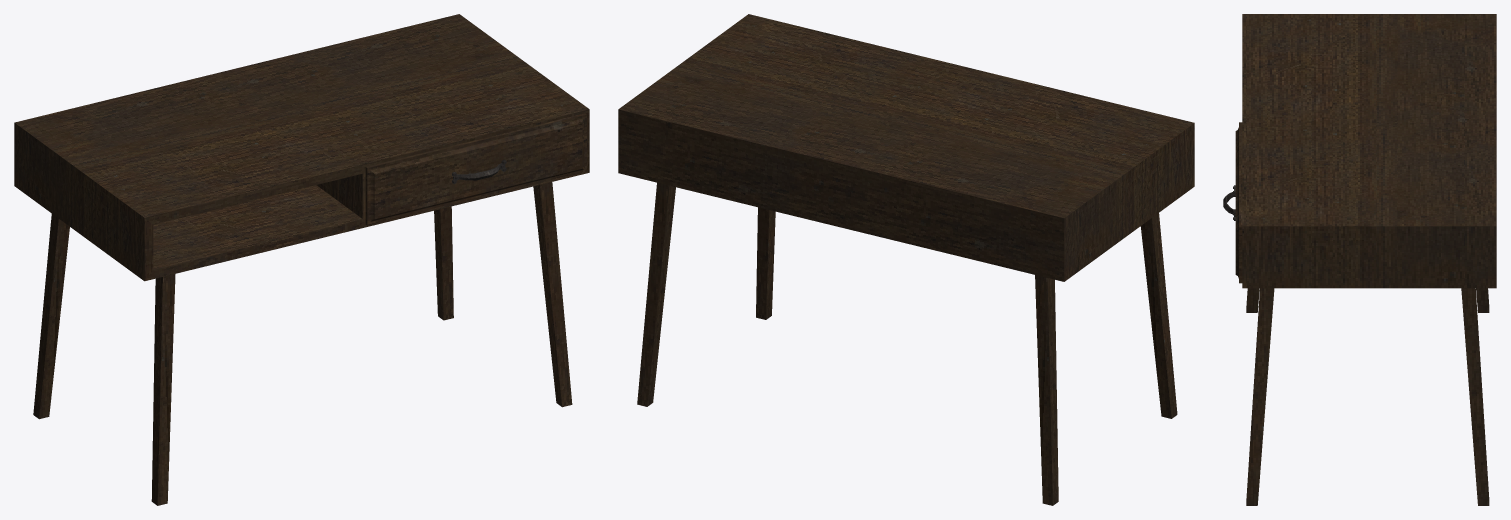
The model's file is tv_table_4_1.glb.
The picture shows the model from 3 angles, left to right: view 1: azimuth 30°, elevation 25°; view 2: azimuth 150°, elevation 25°; view 3: azimuth 270°, elevation 25°; orthographic projection. The views are drawn at different scales.
Parts seen in each view (by area): view 1: tv_table_4_1, tv_table_4_1_drawer; view 2: tv_table_4_1; view 3: tv_table_4_1, tv_table_4_1_drawer.
Boxes of the visible parts, bbox=[...] form: tv_table_4_1: bbox=[14, 14, 589, 505]; tv_table_4_1_drawer: bbox=[365, 113, 586, 225]; tv_table_4_1: bbox=[618, 14, 1194, 505]; tv_table_4_1: bbox=[1242, 14, 1496, 505]; tv_table_4_1_drawer: bbox=[1223, 122, 1242, 283].
Size of the model in its own units: 1.54 by 0.97 by 0.8383.
2 materials, 2 textured.
